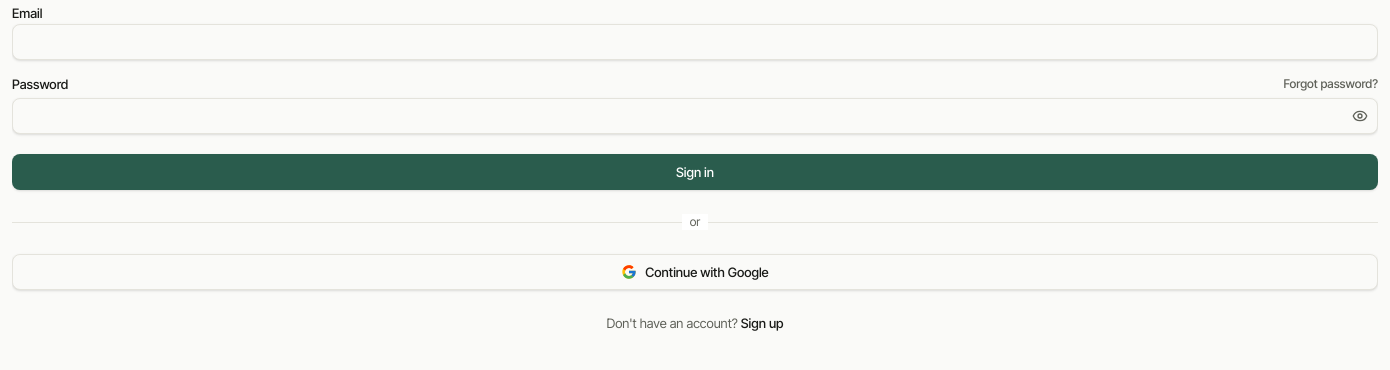
Test: SignInForm › shows validation error for empty password
The image size is (1390, 370).
Type "test@example.com" into the field labelled "Email" at (695, 42), box [12, 24, 1378, 60]
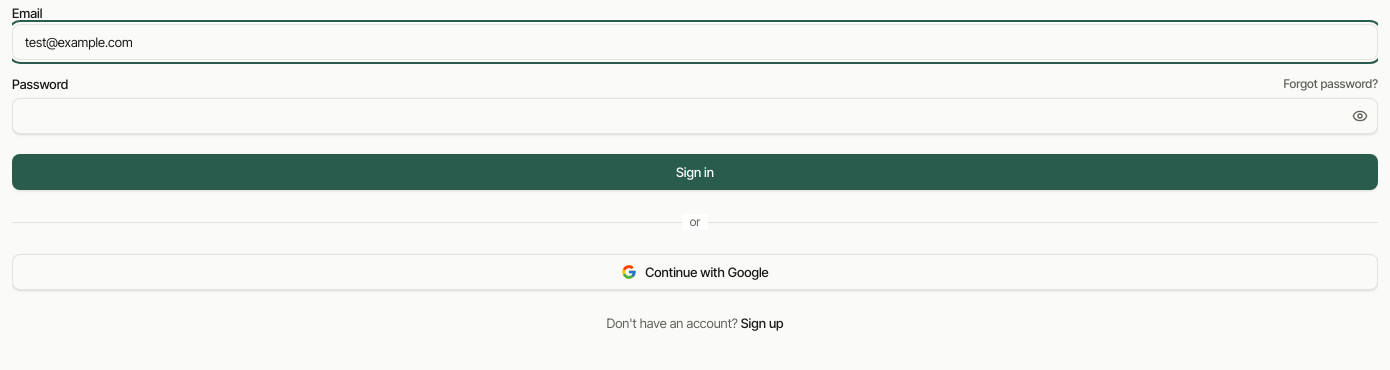
Click the button "Sign in" at (695, 172), box [12, 154, 1378, 190]
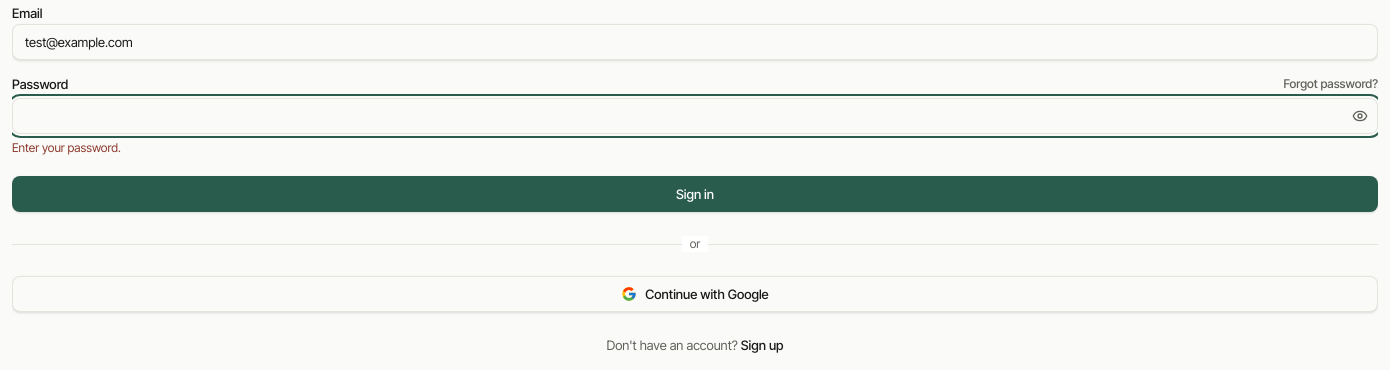
Expected: the text "Enter your password." is shown, [12, 140, 121, 155]
